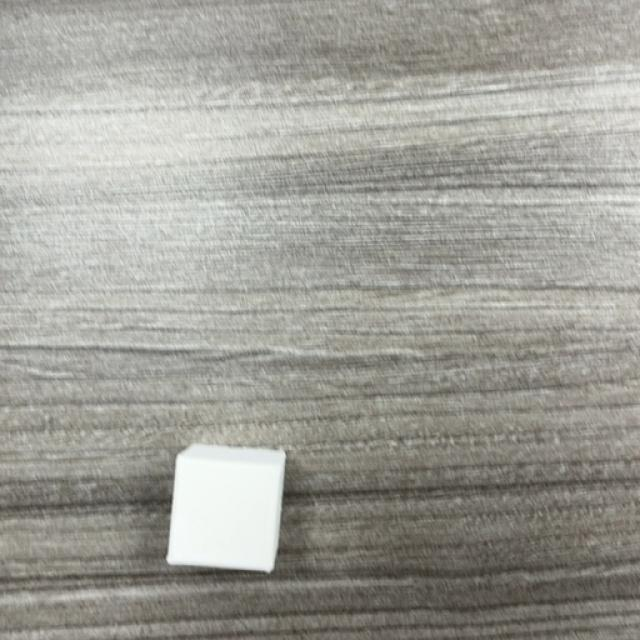Blanco: (165, 444, 286, 576)
